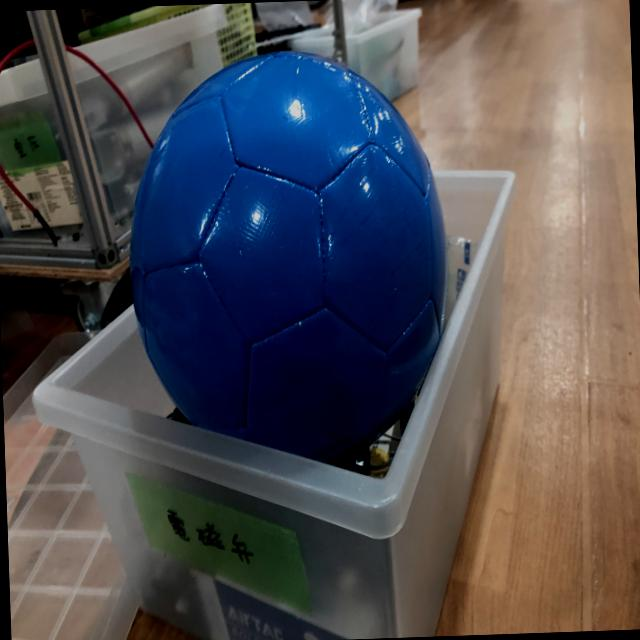blue_ball: (120, 44, 456, 468)
